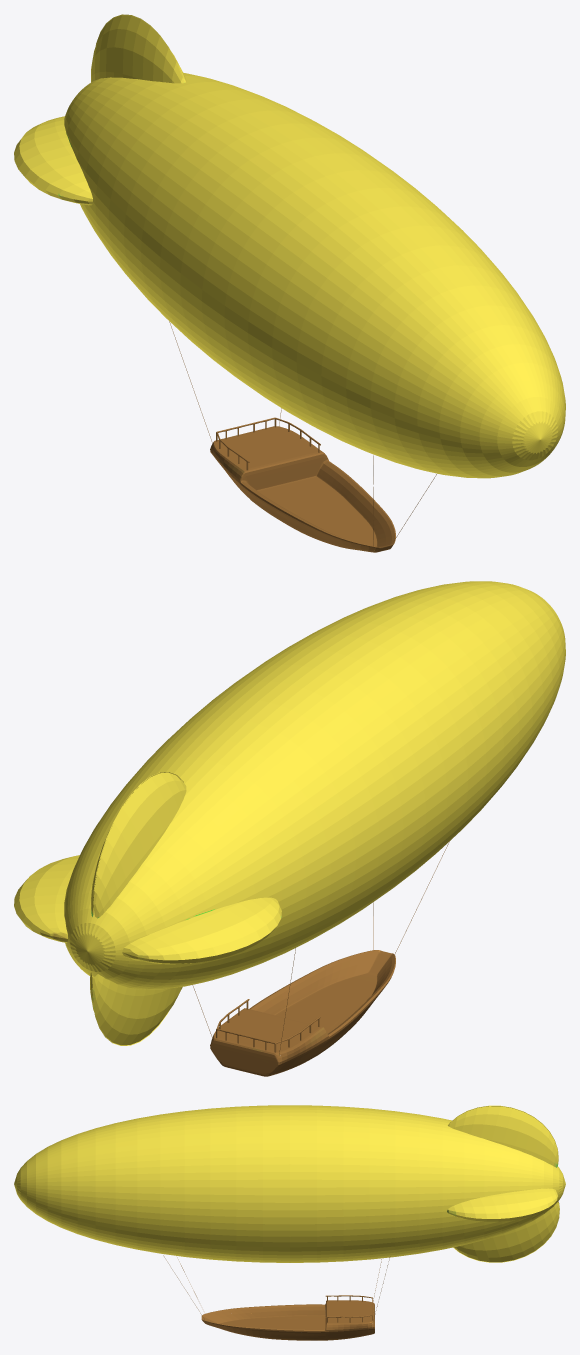
Rendered from AirShip.fbx.
The picture shows the model from 3 angles, top to bottom: view 1: azimuth 30°, elevation 25°; view 2: azimuth 150°, elevation 25°; view 3: azimuth 270°, elevation 25°; orthographic projection. The views are drawn at different scales.
Visible parts, largest first — view 1: Plane; view 2: Plane; view 3: Plane.
Boxes of the visible parts, left/top/right/bottom form: Plane: left=14, top=14, right=565, bottom=552; Plane: left=14, top=581, right=565, bottom=1076; Plane: left=14, top=1105, right=565, bottom=1340.
Bounding box in the file's own units: 3431 × 5139 × 11370.
1 material, 1 textured.
